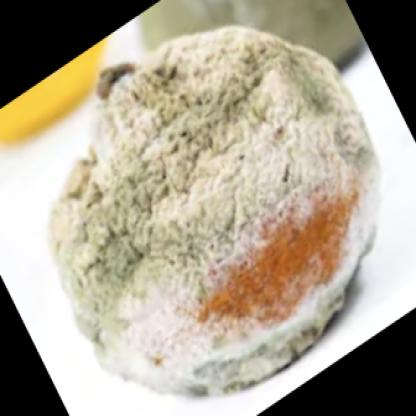rotten: (47, 29, 379, 402)
